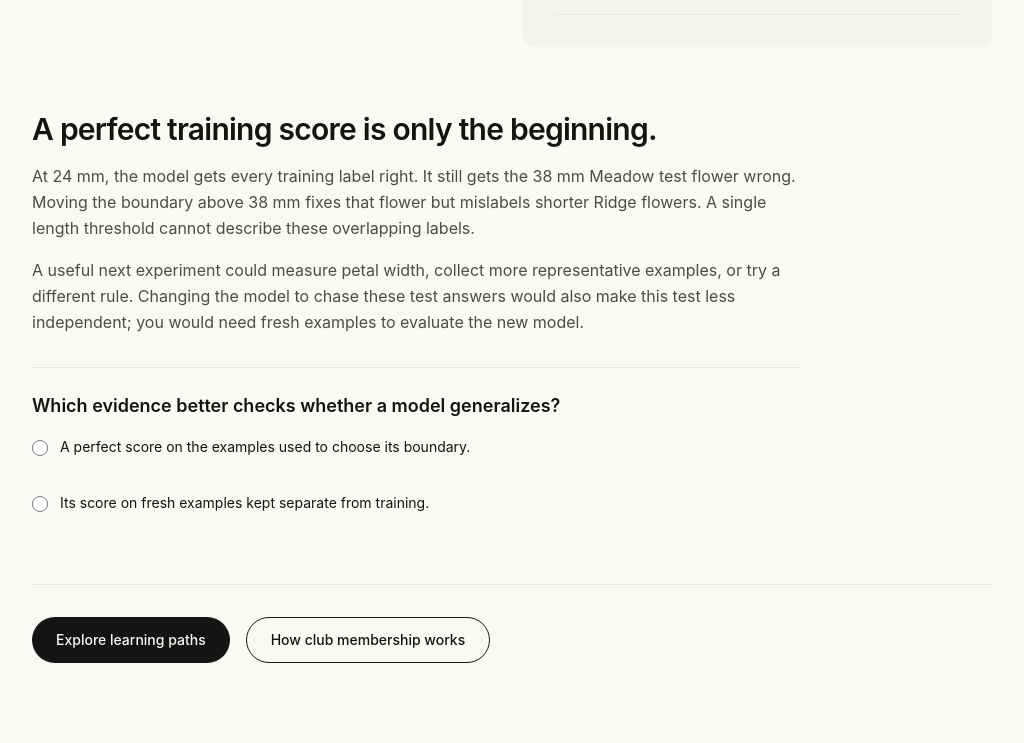
Public first-model experiment › offers the full lesson without an account and explains the takeaway after a choice
(page scrolled)
Step 1. Click the radio button labelled "A perfect score on the examples used to choose its boundary." → (40, 448), box [32, 440, 48, 456]
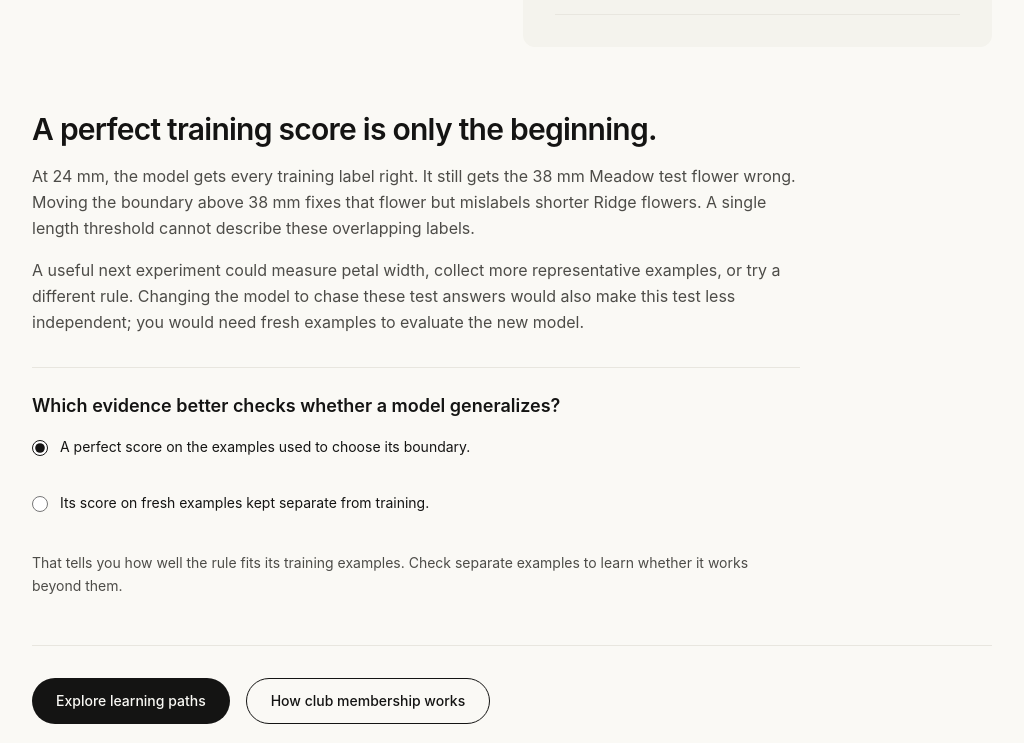
expect the message named "Knowledge check feedback" shows "Check separate examples": met, box [32, 554, 748, 594]
Step 2. Click the radio button labelled "Its score on fresh examples kept separate from training." → (40, 504), box [32, 496, 48, 512]
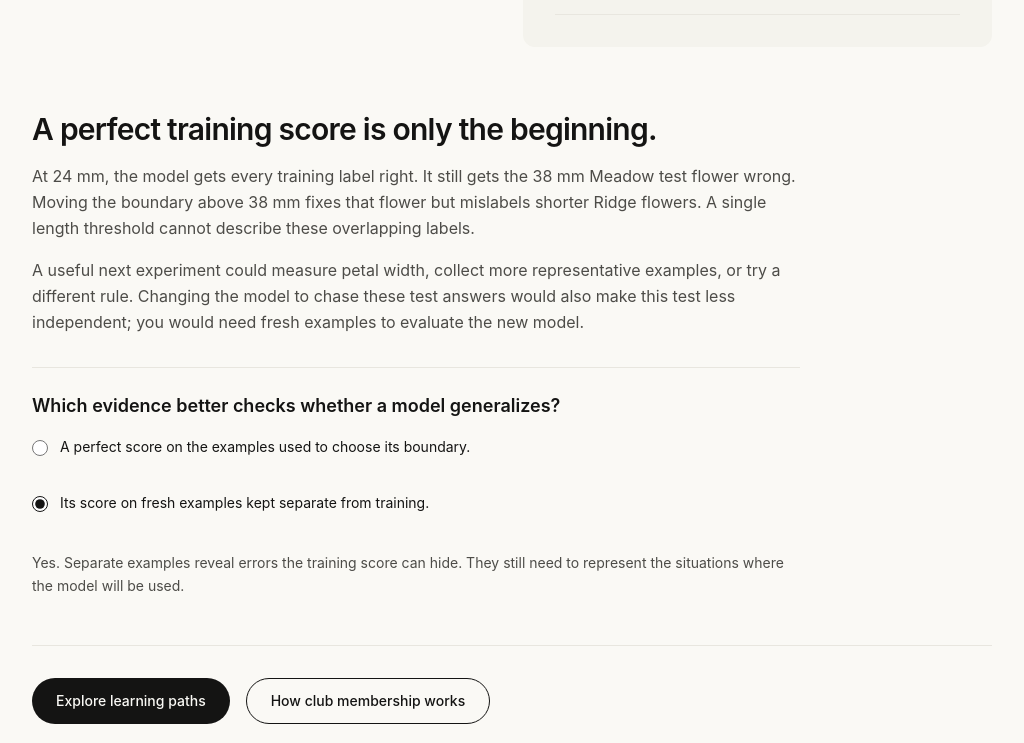
expect the message named "Knowledge check feedback" shows "Separate examples reveal errors": met, box [32, 554, 784, 594]
